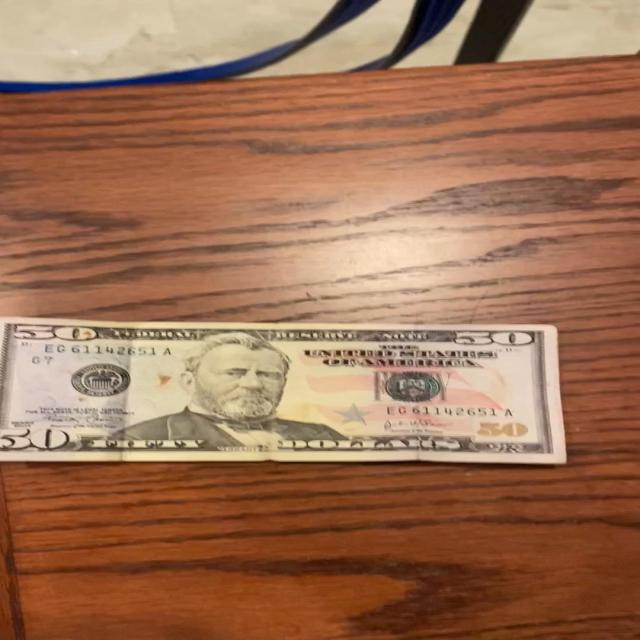50-Front: (0, 312, 593, 470)
